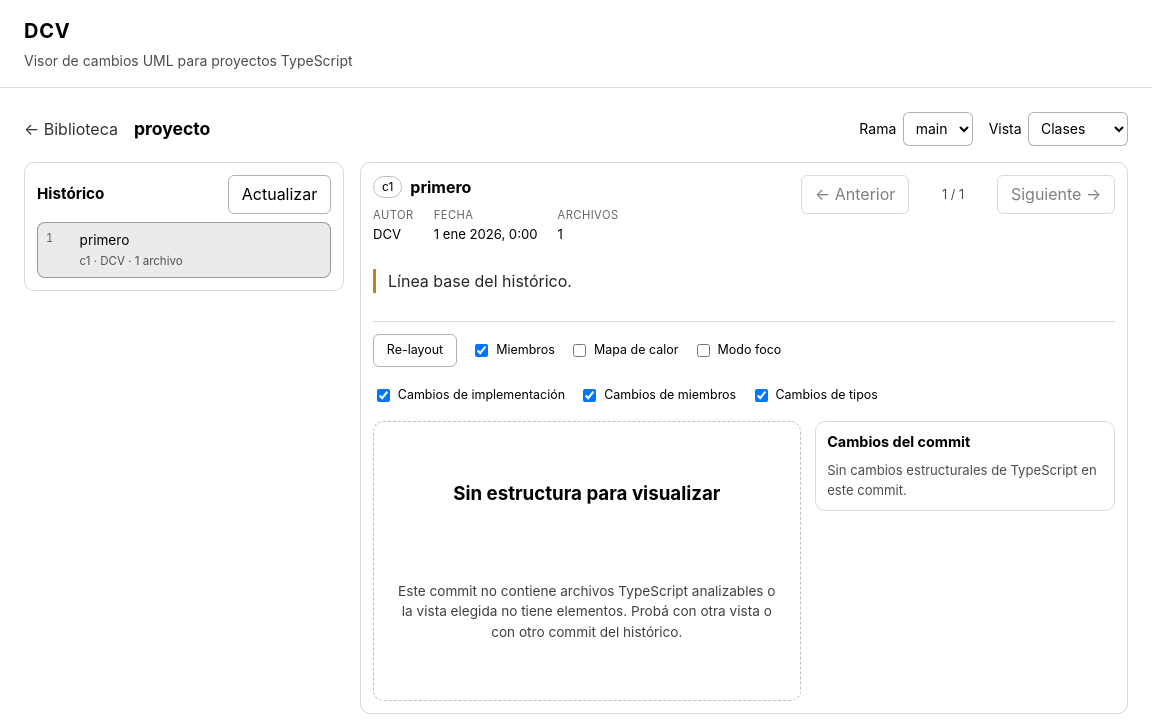
CommitPlayer › cambia de rama y muestra los errores de histórico
Expected: the heading "primero" is shown, x1=410 y1=175 x2=471 y2=199
Select "dev" in the dropdown labelled "Rama" at (938, 129), box x1=903 y1=112 x2=973 y2=146
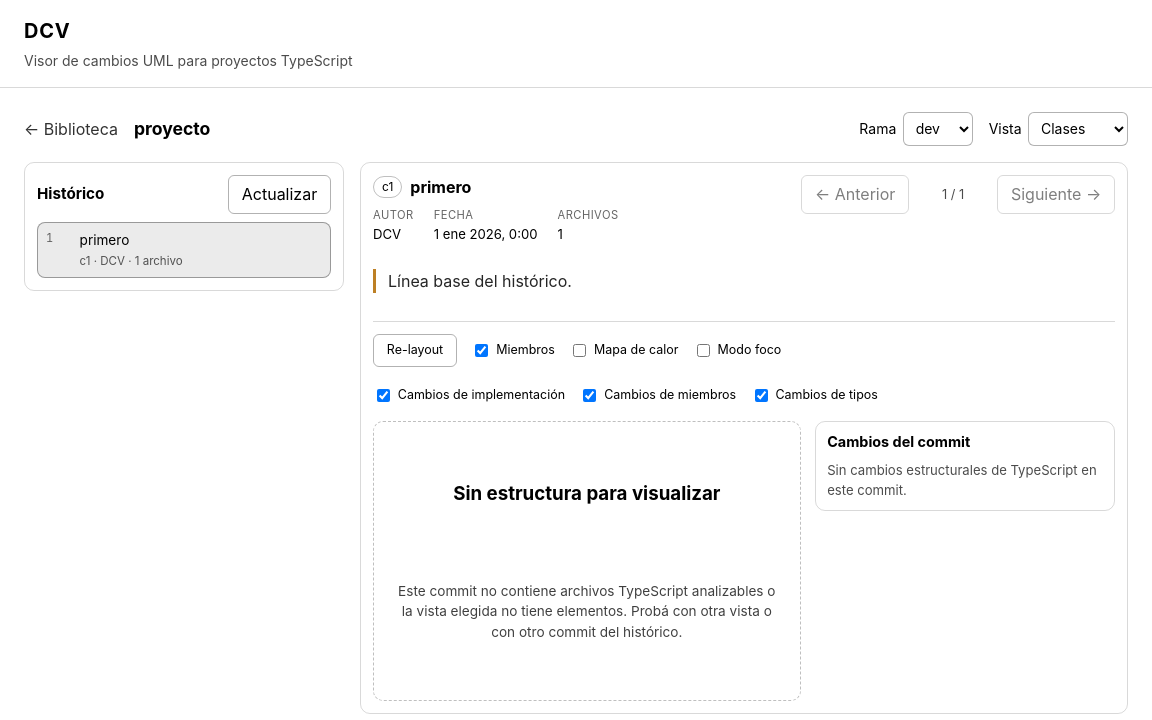
Select "main" in the dropdown labelled "Rama" at (938, 129), box x1=903 y1=112 x2=973 y2=146
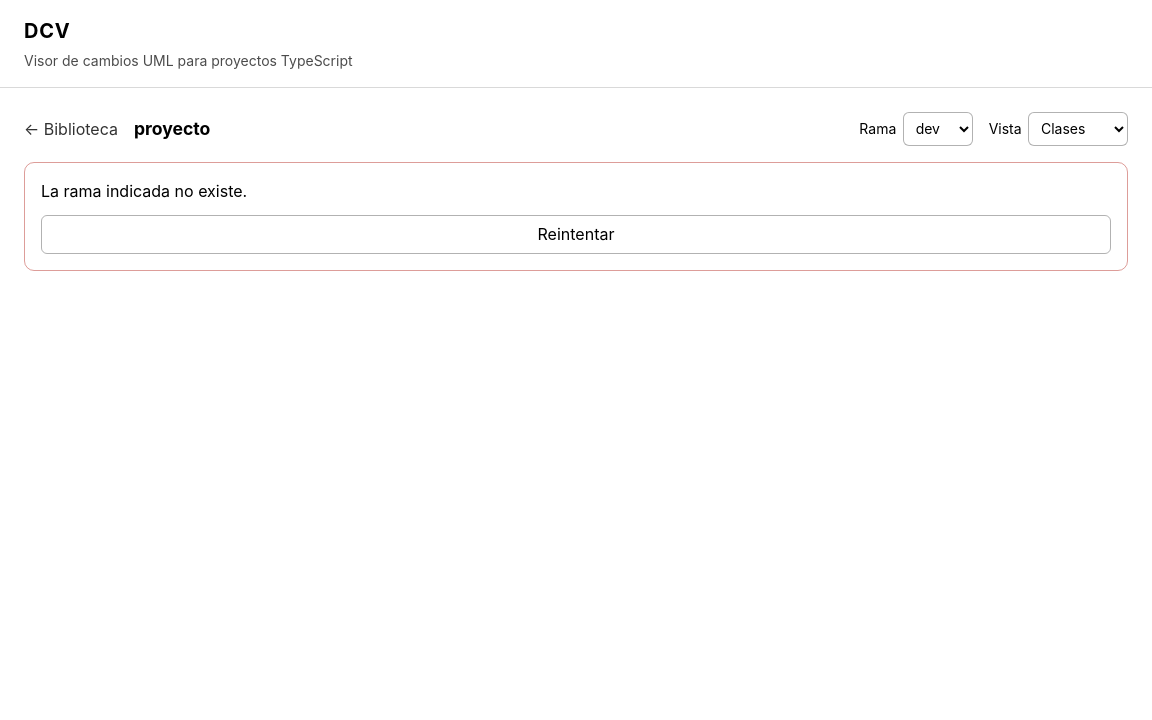
Result: the message shows "La rama indicada no existe." at x1=41 y1=181 x2=247 y2=201
